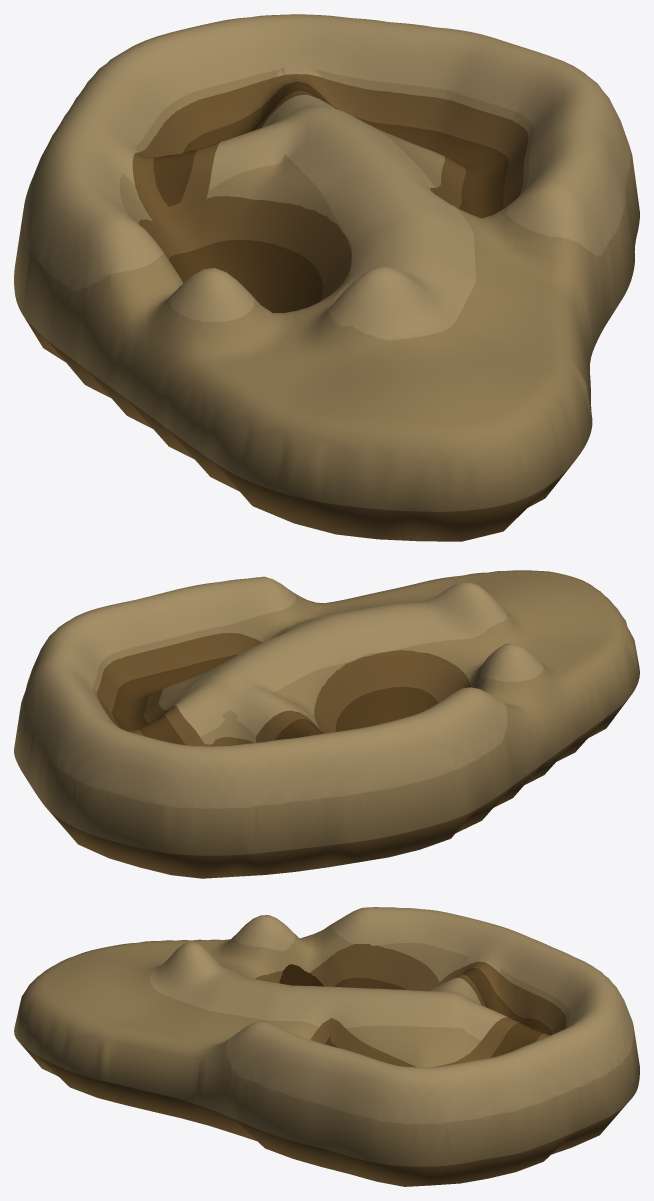
Rendered from ear_right.glb.
3 renders of one model, top to bottom at view 1: azimuth 30°, elevation 25°; view 2: azimuth 150°, elevation 25°; view 3: azimuth 270°, elevation 25°, orthographic. The views are drawn at different scales.
Visible parts, largest first — view 1: ear; view 2: ear; view 3: ear.
Boxes of the visible parts, x1,y1,x2,y2 form: ear: (14,14,639,541); ear: (14,570,639,878); ear: (14,907,639,1186).
Bounding box in the file's own units: 18.4 × 5.95 × 25.27.
